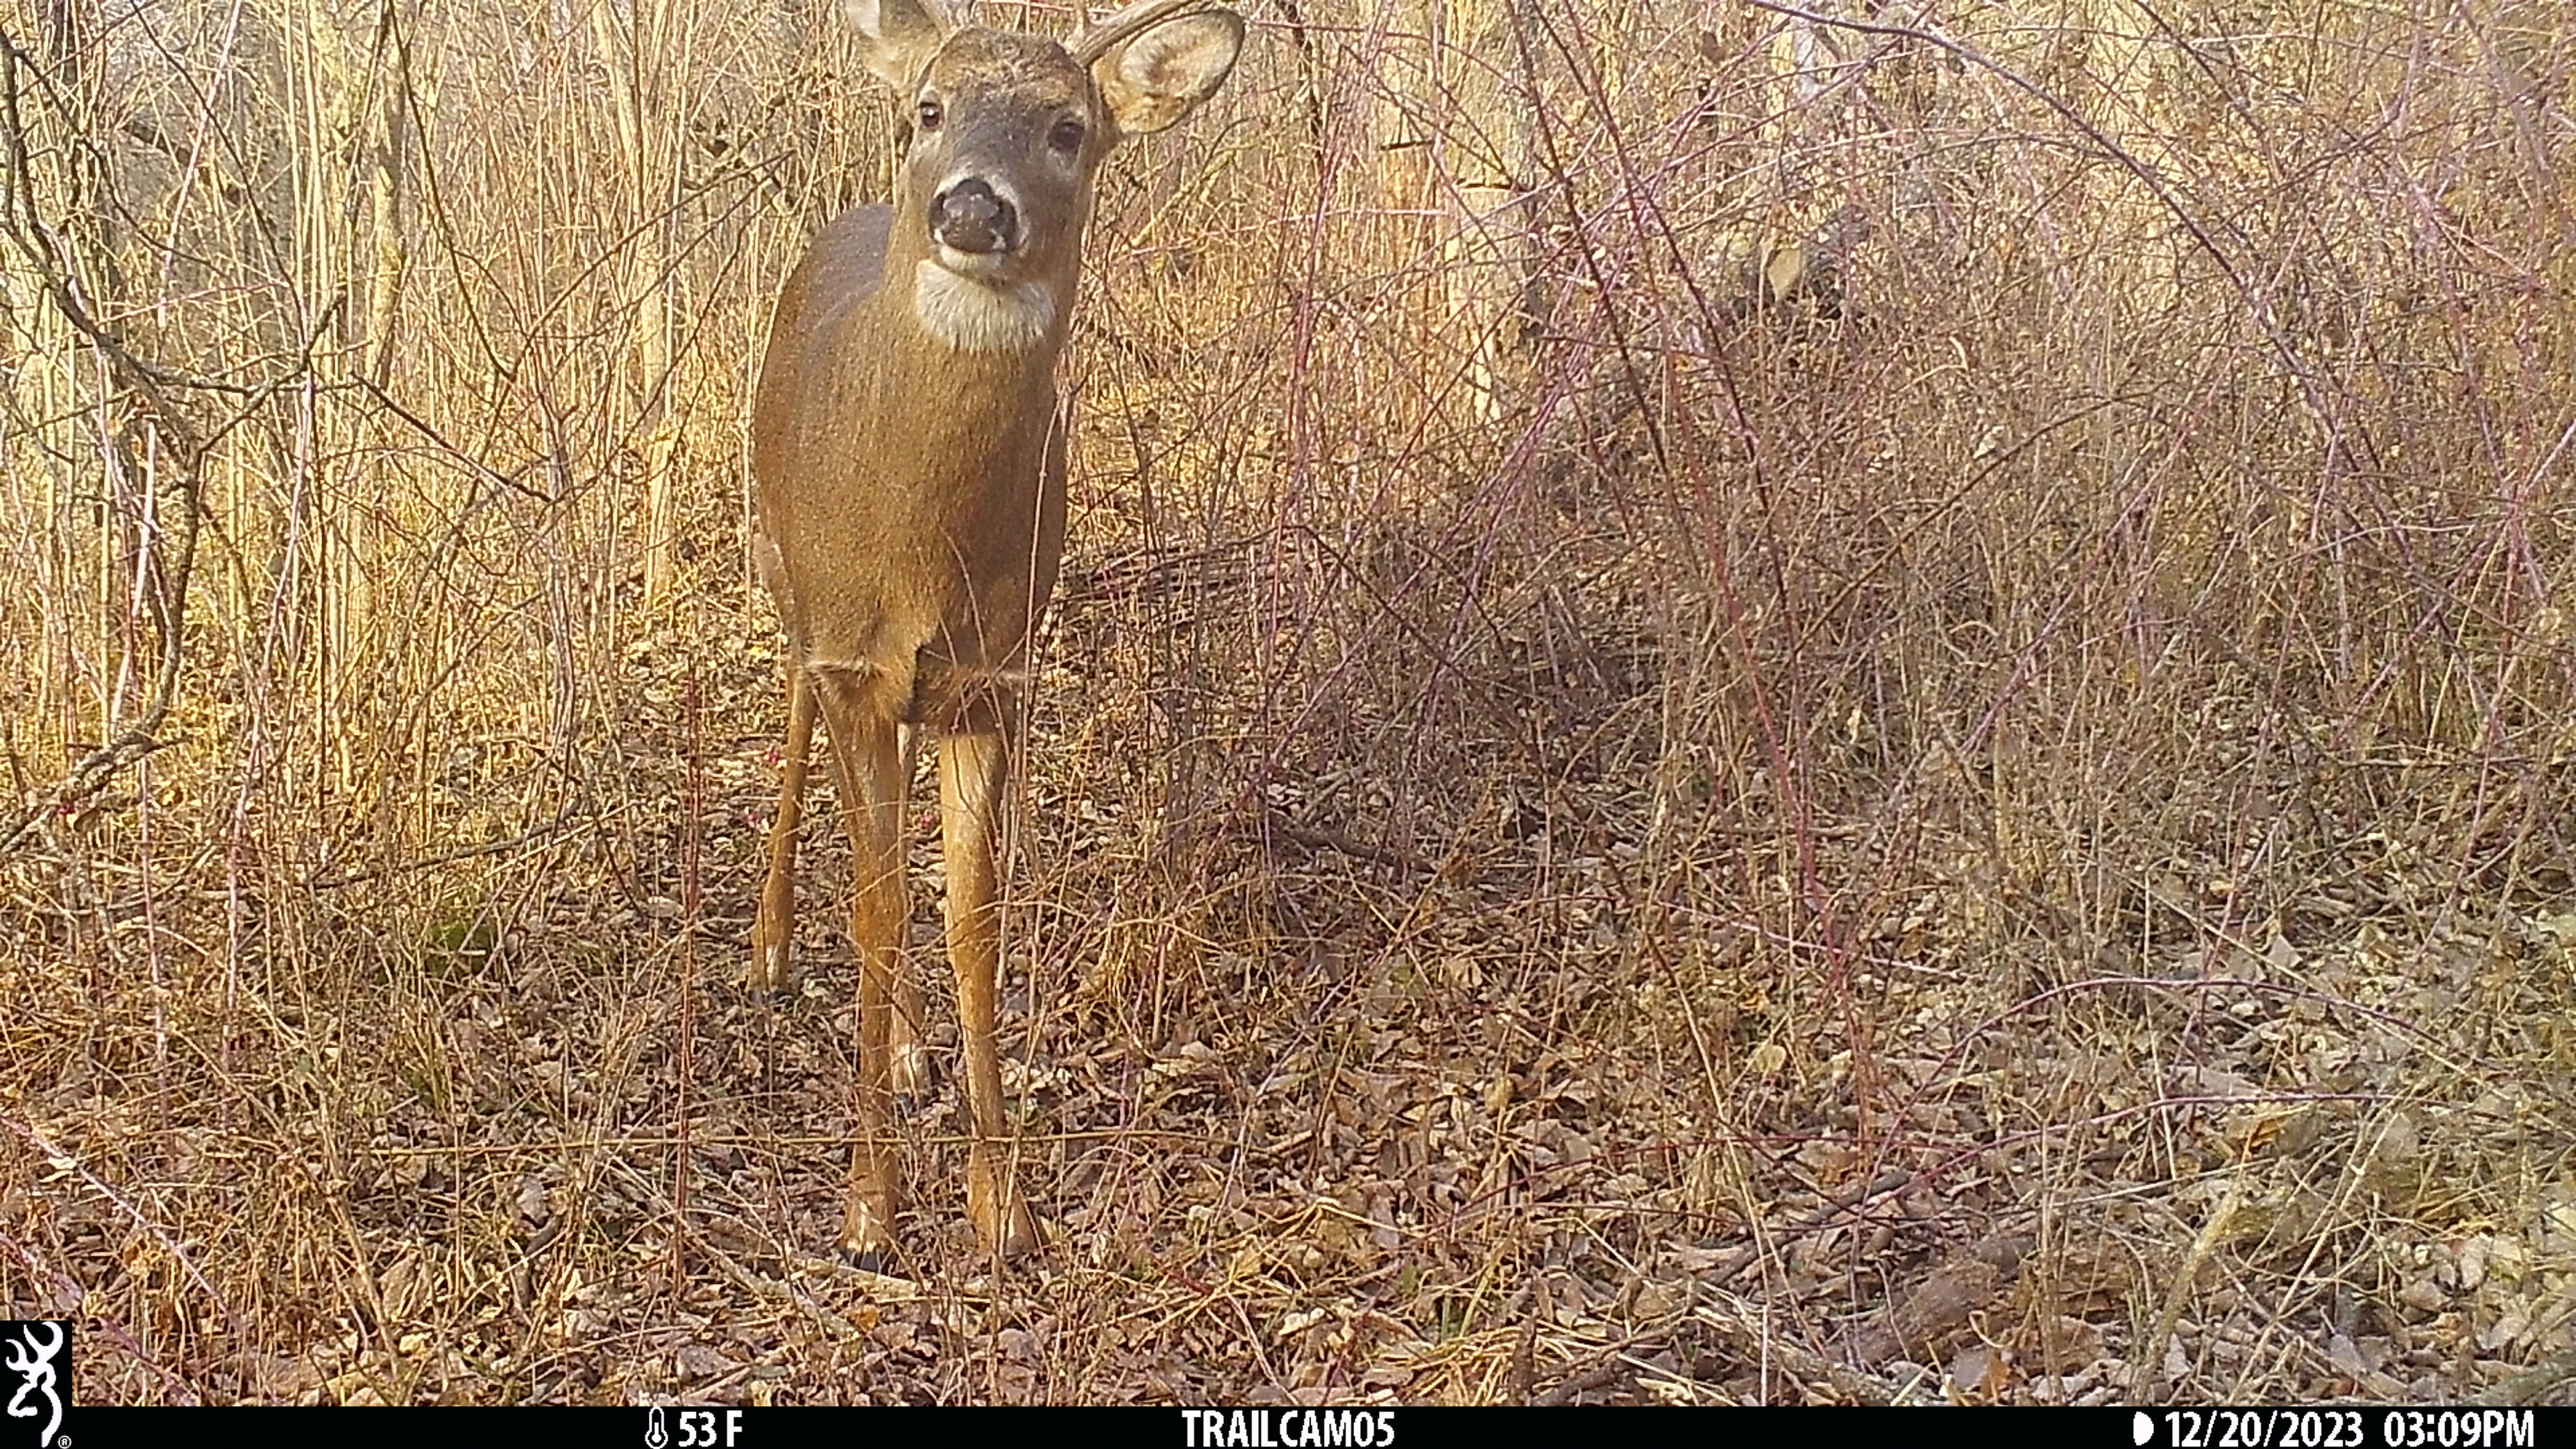DeerBuck: (740, 1, 1250, 1257)
DeerBuckHead: (835, 1, 1248, 273)
